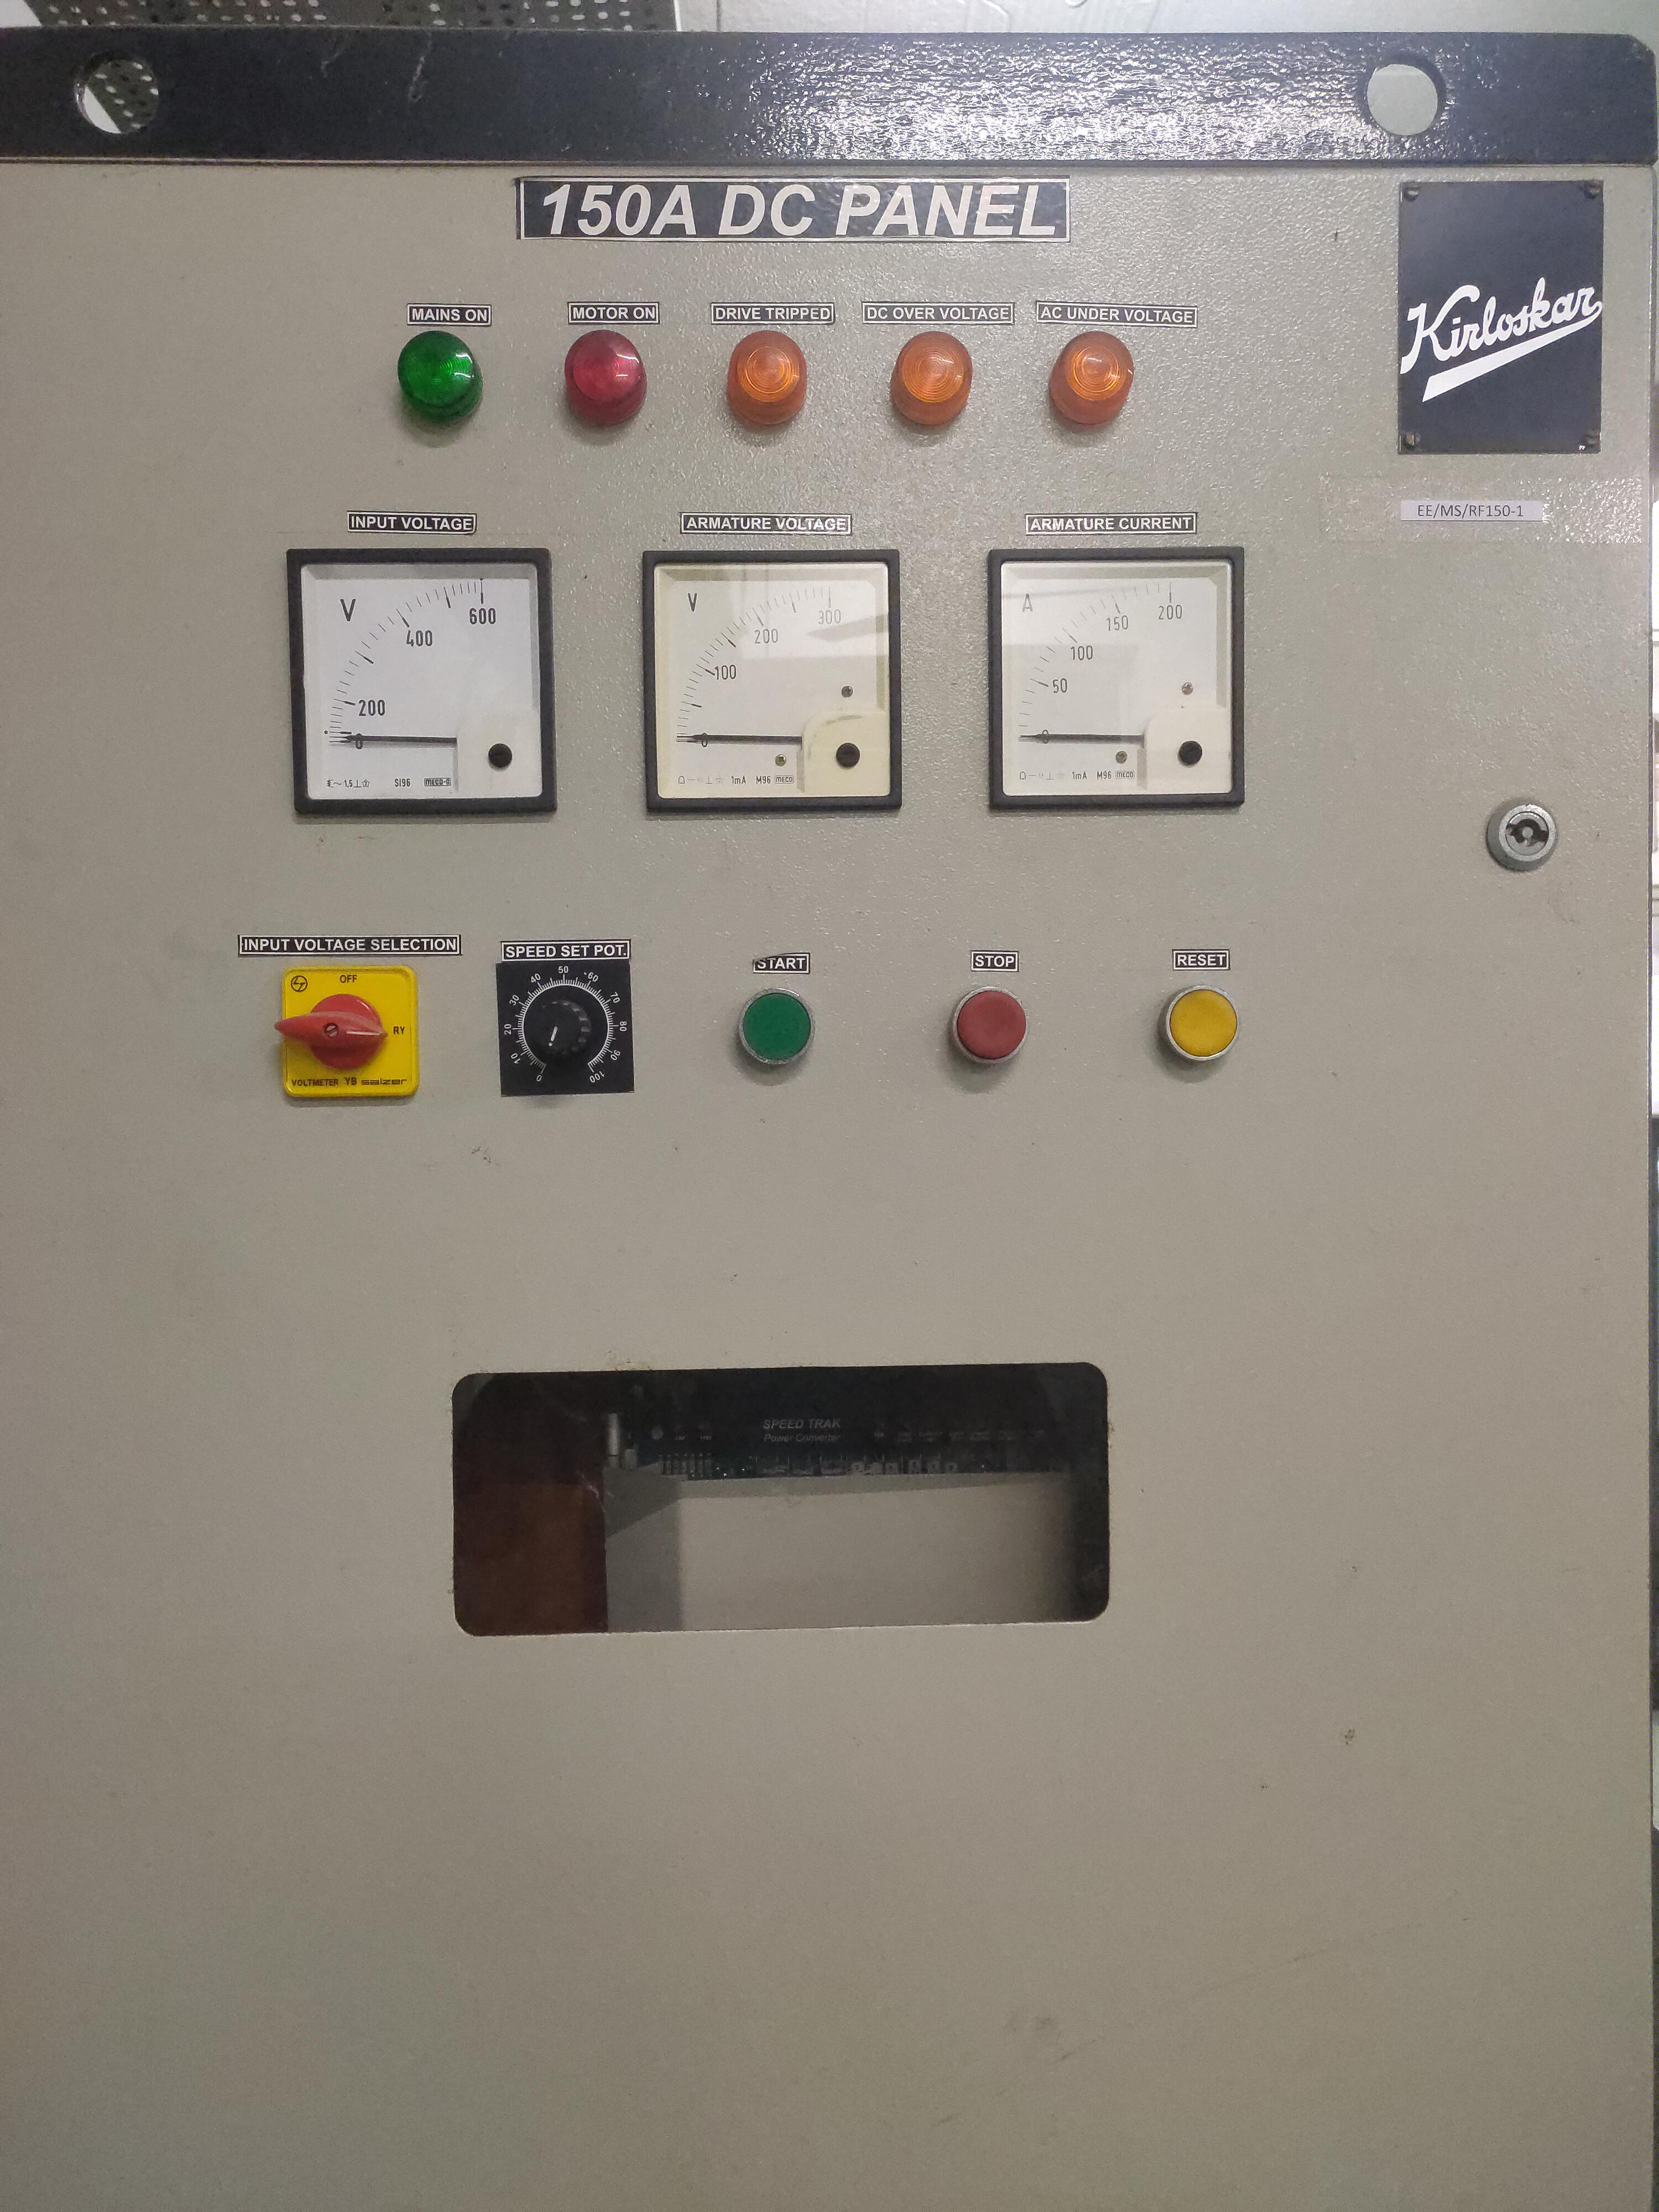Light Indications: (366, 260, 1173, 467)
